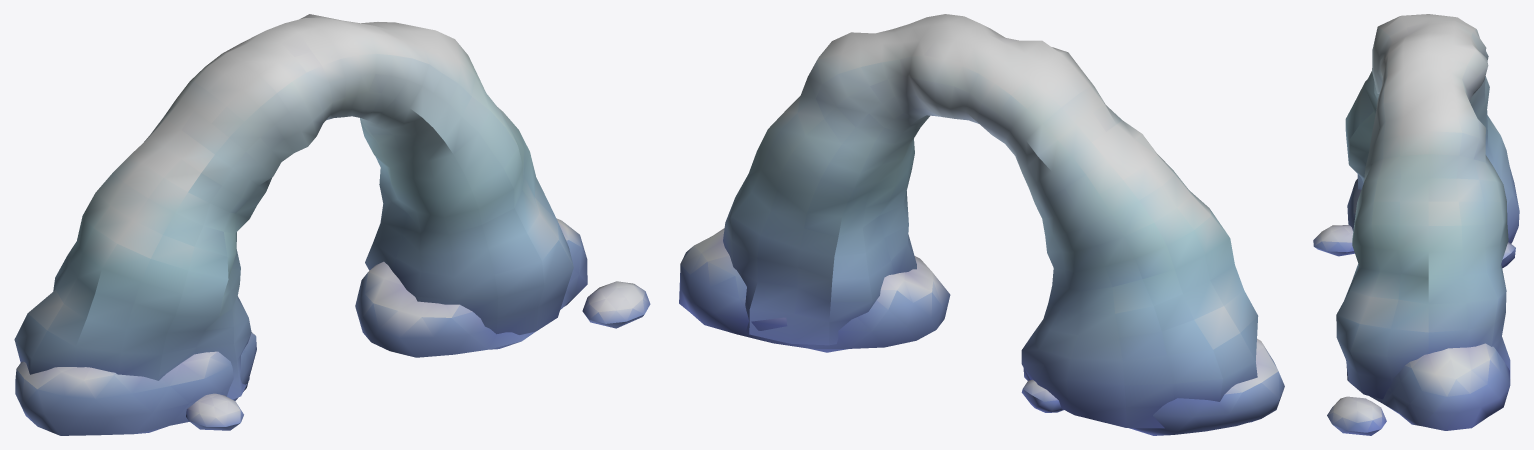
File: glass_arch_ice_a.glb
The picture shows the model from 3 angles, left to right: view 1: azimuth 30°, elevation 25°; view 2: azimuth 150°, elevation 25°; view 3: azimuth 270°, elevation 25°; orthographic projection. The views are drawn at different scales.
Parts seen in each view (by area): view 1: glass_arch_ice_a; view 2: glass_arch_ice_a; view 3: glass_arch_ice_a.
Boxes of the visible parts, box(x1,y1,x2,y2) form: glass_arch_ice_a: box(14, 14, 650, 435); glass_arch_ice_a: box(679, 14, 1284, 435); glass_arch_ice_a: box(1313, 14, 1519, 435).
Size of the model in its own units: 16.66 by 8.86 by 5.7.
